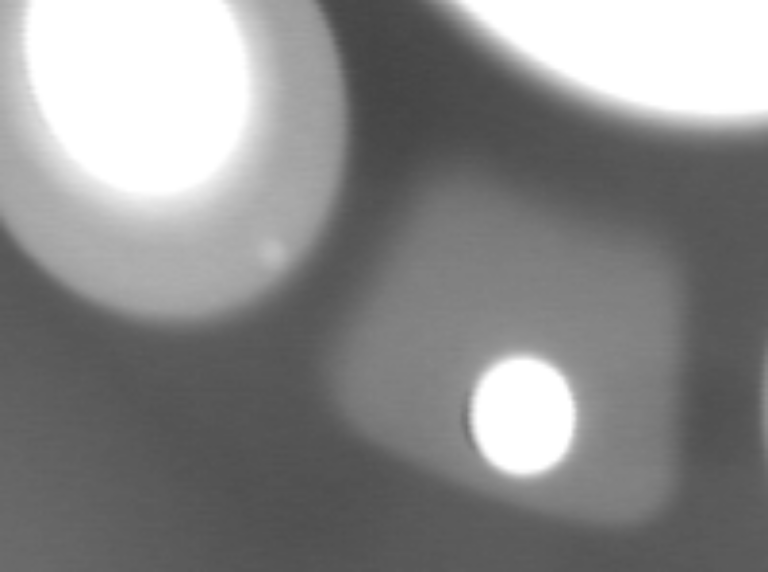defect: (261, 245, 300, 290)
